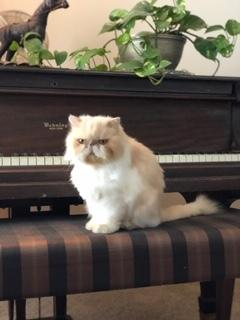persian: (62, 109, 129, 171)
